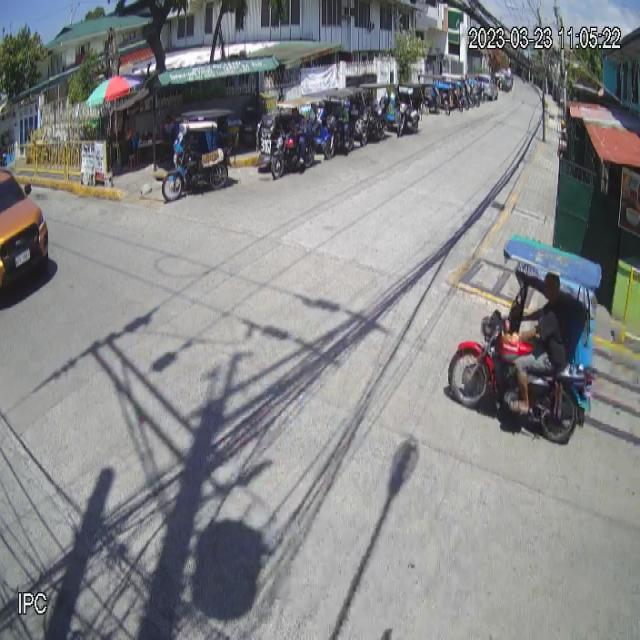Tricycle: (447, 233, 602, 447)
